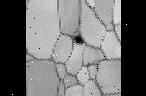good_void: (72, 35, 84, 45)
